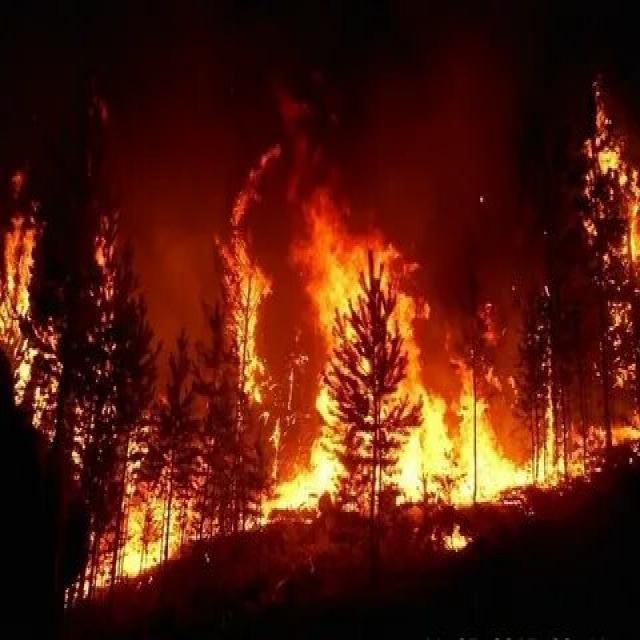Fire: (0, 274, 640, 606)
